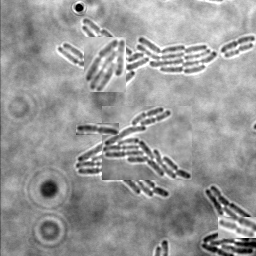Dividing: (219, 34, 255, 52), (223, 41, 253, 57)
Microcolony: (57, 18, 216, 89), (75, 120, 169, 197), (62, 15, 128, 45), (204, 184, 251, 226), (200, 230, 255, 255), (35, 165, 71, 197), (232, 212, 247, 253)
